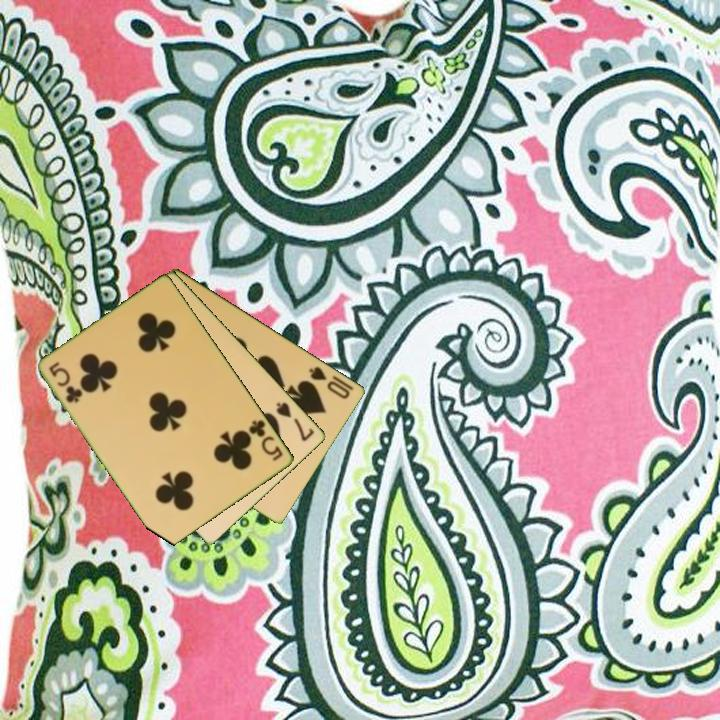10s: (306, 363, 353, 402)
5c: (246, 416, 286, 464), (46, 358, 85, 406)
7s: (273, 398, 318, 444)
